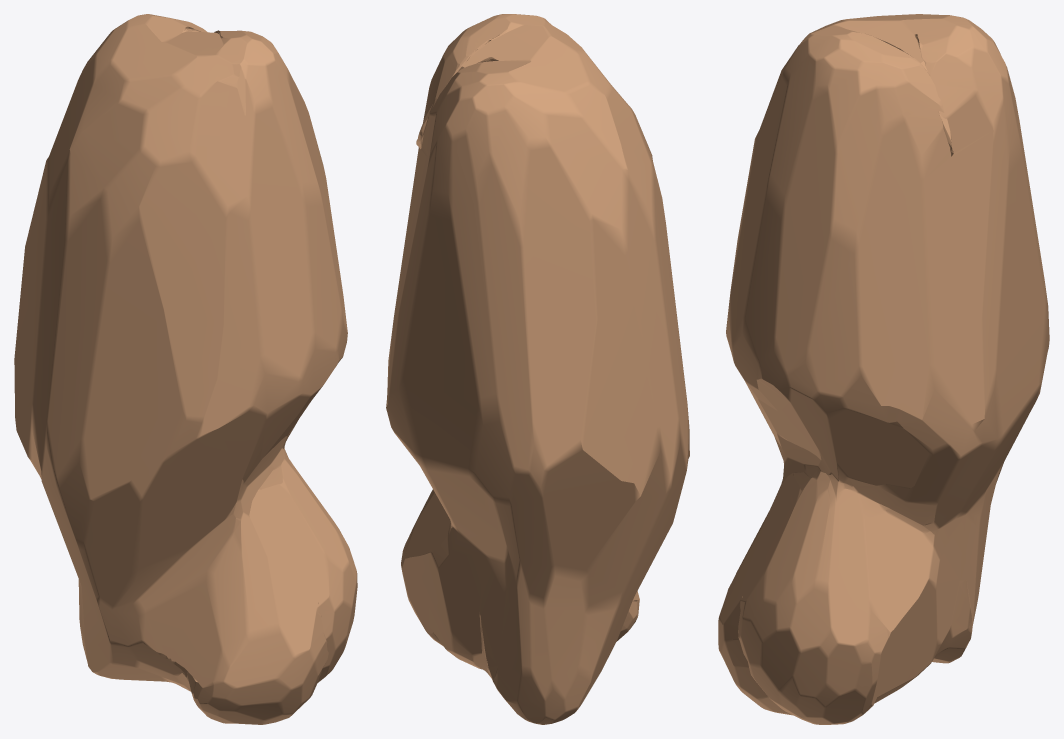
3 views of the same model, side by side, from view 1: azimuth 30°, elevation 25°; view 2: azimuth 150°, elevation 25°; view 3: azimuth 270°, elevation 25° (orthographic). The views are drawn at different scales.
Visible parts, largest first — view 1: Mesh_12_LOD0; view 2: Mesh_12_LOD0; view 3: Mesh_12_LOD0.
Part boxes in pixels (x1,y1,x2,y2): Mesh_12_LOD0: [14, 14, 357, 724]; Mesh_12_LOD0: [386, 14, 689, 724]; Mesh_12_LOD0: [718, 14, 1049, 724].
Size of what is drawn, in the model's own units: 326 by 728 by 321.
